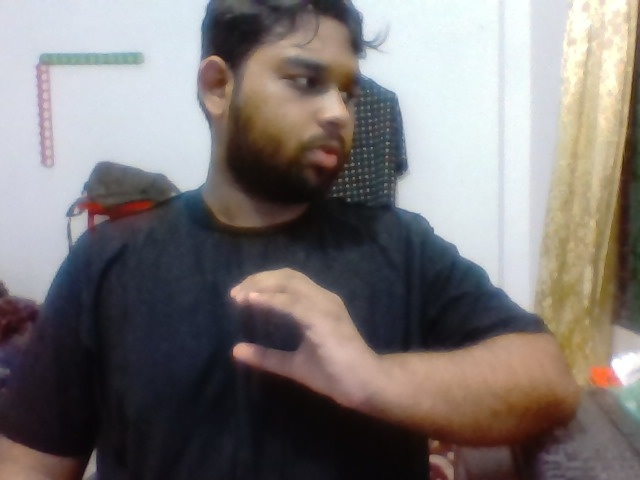C: (217, 259, 380, 424)
